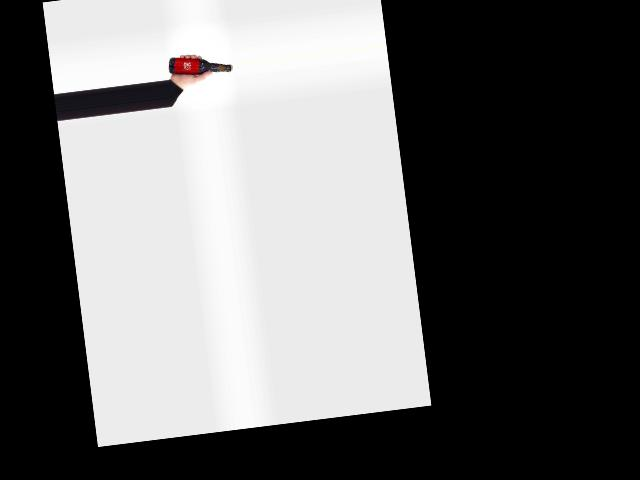beer: (167, 49, 233, 79)
